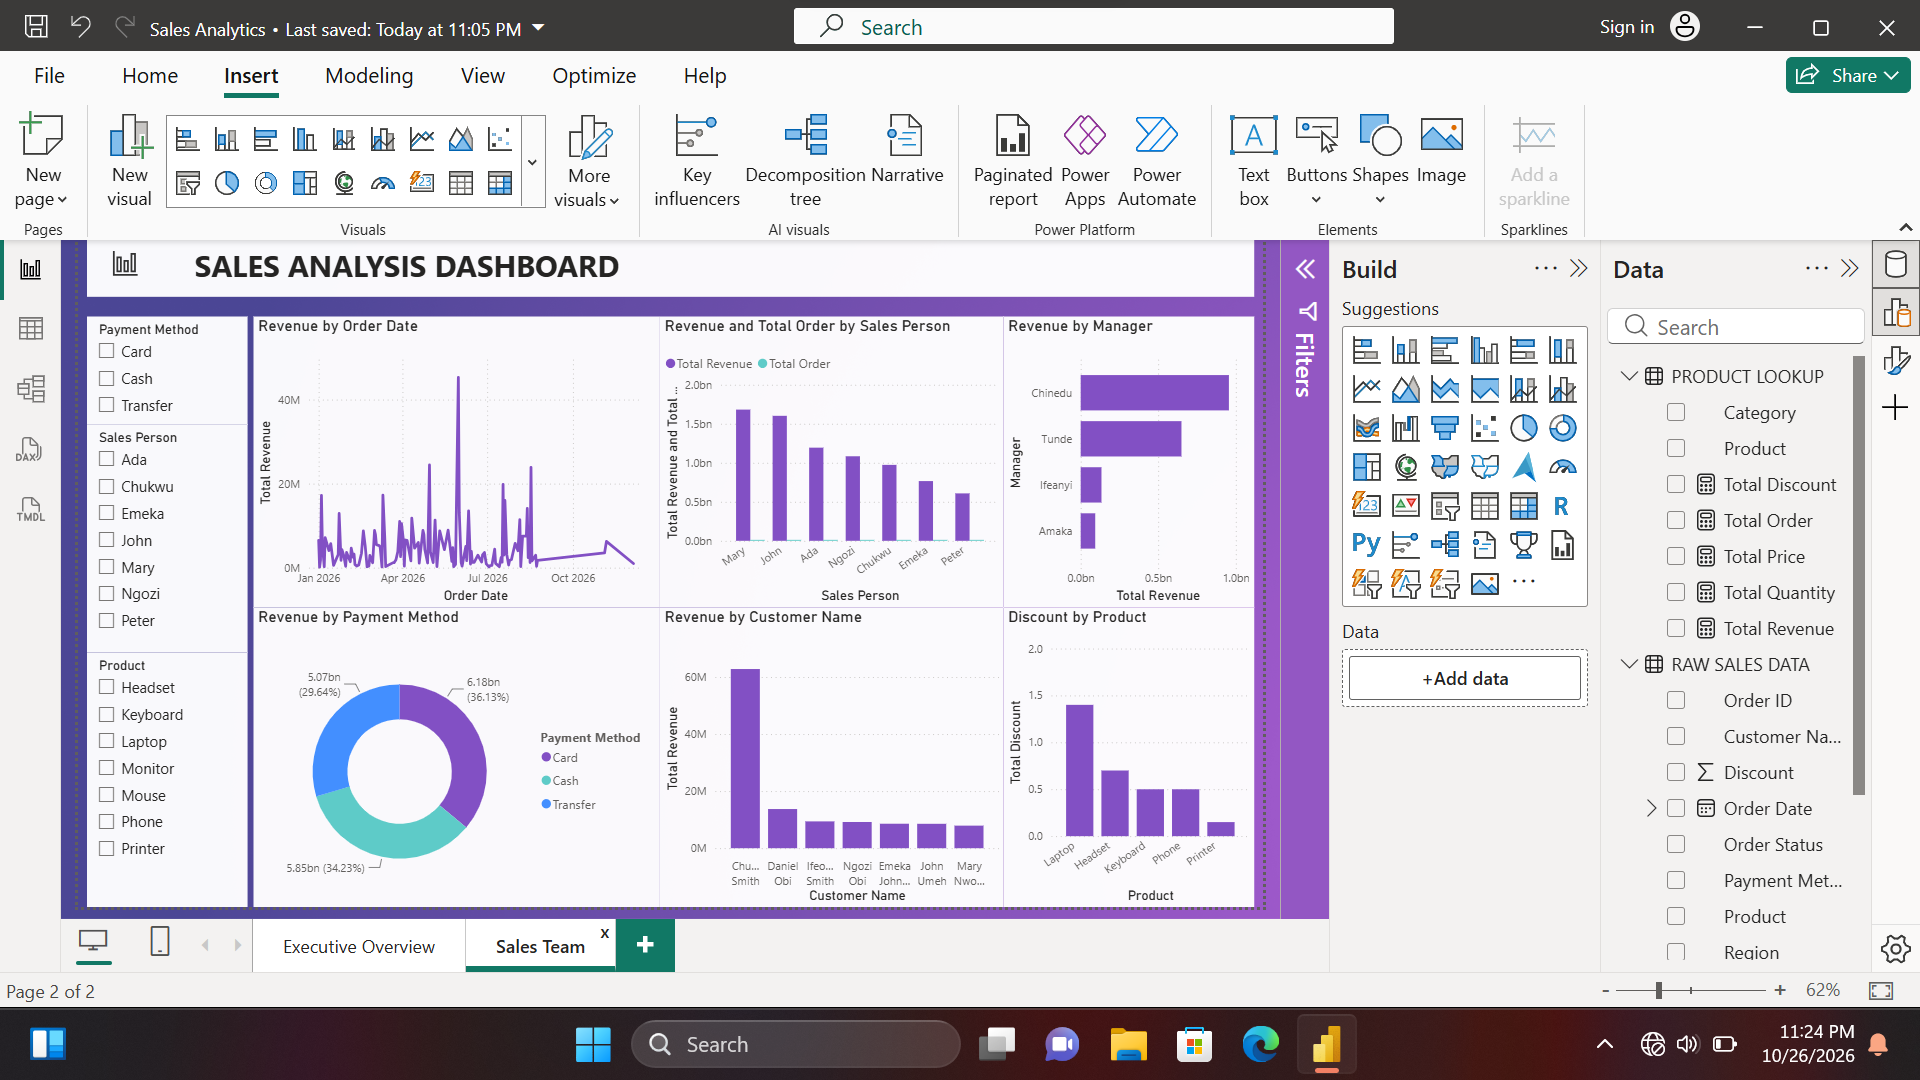

What the dashboard file says about the page in this screenshot:
{"tool":"powerbi","page":{"name":"Sales Team","canvas":[1280,720],"ordinal":1},"visuals":[{"type":"textbox","box":[9.7,0,1259.8,61.5],"z":0},{"type":"lineChart","title":"Revenue by Order Date","fields":{"Y":["PRODUCT LOOKUP.Total Revenue"],"Category":["RAW SALES DATA.Order Date"]},"box":[189.4,82.6,438.8,314.1],"z":1000},{"type":"clusteredBarChart","title":"Revenue by Manager","fields":{"Category":["REGION LOOKUP.Manager"],"Y":["PRODUCT LOOKUP.Total Revenue"]},"box":[999.1,82.6,270.4,314.1],"z":2000},{"type":"lineClusteredColumnComboChart","title":"Revenue and Total Order by Sales Person","fields":{"Category":["RAW SALES DATA.Sales Person"],"Y":["PRODUCT LOOKUP.Total Revenue","PRODUCT LOOKUP.Total Order"]},"box":[628.3,82.6,370.8,314.1],"z":3000},{"type":"columnChart","title":"Revenue by Customer Name","fields":{"Category":["RAW SALES DATA.Customer Name"],"Y":["PRODUCT LOOKUP.Total Revenue"]},"box":[628.3,396.7,370.8,323.8],"z":4000},{"type":"donutChart","title":"Revenue by Payment Method","fields":{"Category":["RAW SALES DATA.Payment Method"],"Y":["PRODUCT LOOKUP.Total Revenue"]},"box":[189.4,396.7,438.8,323.8],"z":5000},{"type":"clusteredColumnChart","title":"Discount by Product","fields":{"Category":["RAW SALES DATA.Product"],"Y":["PRODUCT LOOKUP.Total Discount"]},"box":[999.1,396.7,270.4,323.8],"z":6000},{"type":"slicer","fields":{"Values":["RAW SALES DATA.Payment Method"]},"box":[9.7,82.6,173.3,116.6],"z":7000},{"type":"slicer","fields":{"Values":["RAW SALES DATA.Sales Person"]},"box":[9.7,199.2,173.3,246.1],"z":8000},{"type":"slicer","fields":{"Values":["RAW SALES DATA.Product"]},"box":[9.7,445.3,173.3,275.3],"z":10000},{"type":"clusteredBarChart","fields":{"Category":["RAW SALES DATA. Order ID "],"Y":["PRODUCT LOOKUP.Total Price"]},"box":[9.7,0,82.6,50.2],"z":11000}]}

Visuals, with their boxes on the page's 1280x720 design canvas (x1, y1, x2, y2). These are canvas units, not pixel positions in the 1920x1080 screenshot, which may show the page scaled, cropped or inside an application window:
textbox: locate(10, 0, 1270, 62)
"Revenue by Order Date" lineChart: locate(189, 83, 628, 397)
"Revenue by Manager" clusteredBarChart: locate(999, 83, 1270, 397)
"Revenue and Total Order by Sales Person" lineClusteredColumnComboChart: locate(628, 83, 999, 397)
"Revenue by Customer Name" columnChart: locate(628, 397, 999, 720)
"Revenue by Payment Method" donutChart: locate(189, 397, 628, 720)
"Discount by Product" clusteredColumnChart: locate(999, 397, 1270, 720)
slicer - RAW SALES DATA.Payment Method: locate(10, 83, 183, 199)
slicer - RAW SALES DATA.Sales Person: locate(10, 199, 183, 445)
slicer - RAW SALES DATA.Product: locate(10, 445, 183, 721)
clusteredBarChart - RAW SALES DATA. Order ID  x PRODUCT LOOKUP.Total Price: locate(10, 0, 92, 50)
